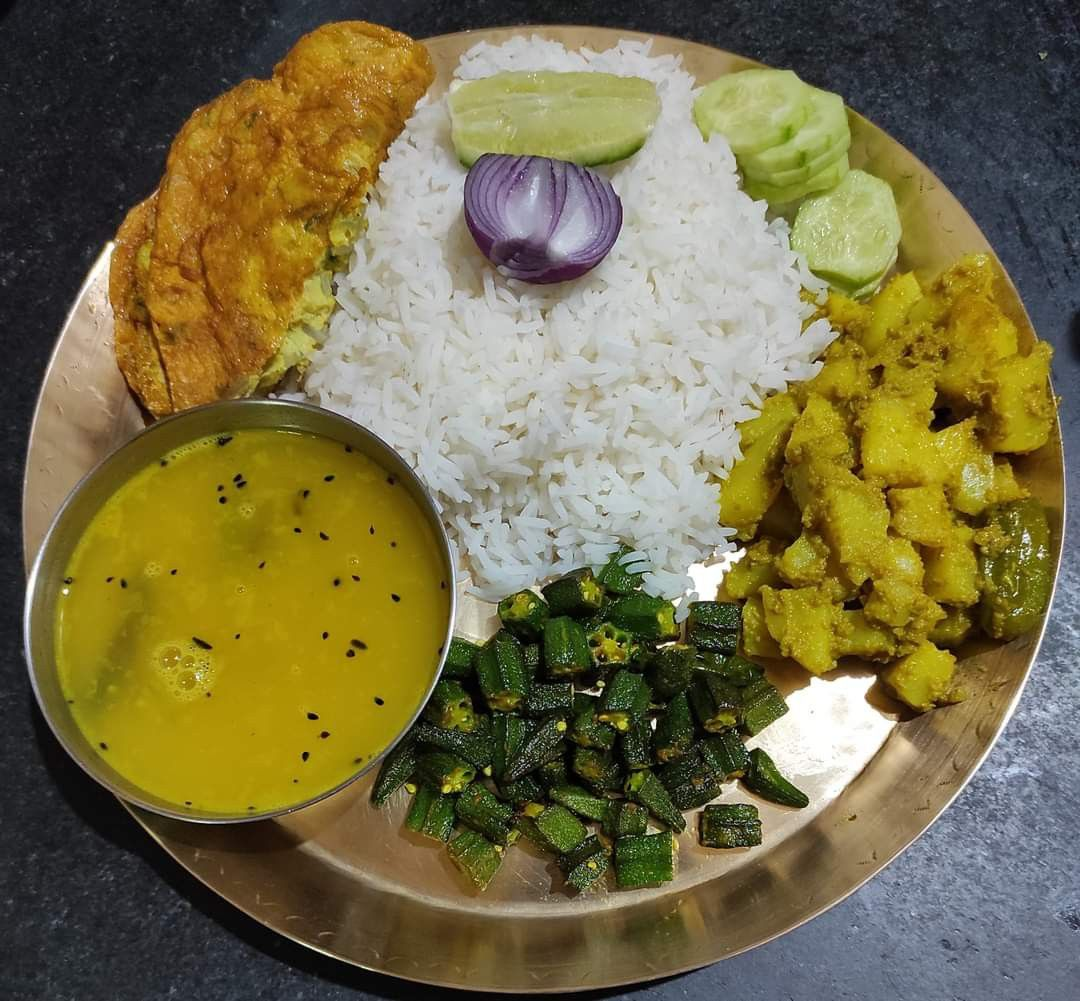bhat: (321, 56, 824, 575)
dal: (62, 431, 431, 794)
sabji: (409, 248, 1042, 889)
